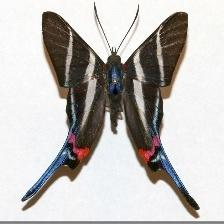butterfly: (22, 12, 199, 210)
